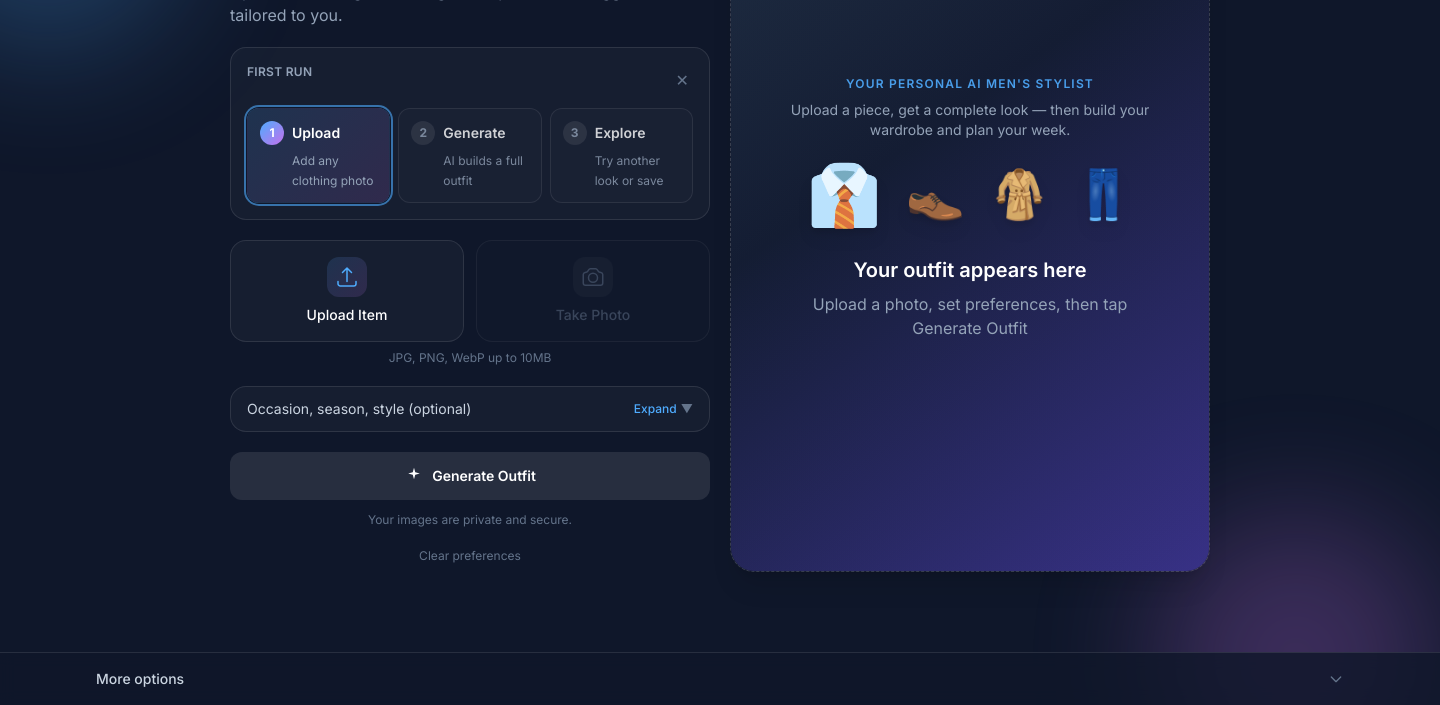
Test case: Guide and footer navigation (App) › opens User guide from footer link
The width and height of the screenshot is (1440, 705).
(page scrolled)
Click the button "More options".
click(140, 678)  # box [96, 653, 1344, 704]
(page scrolled)
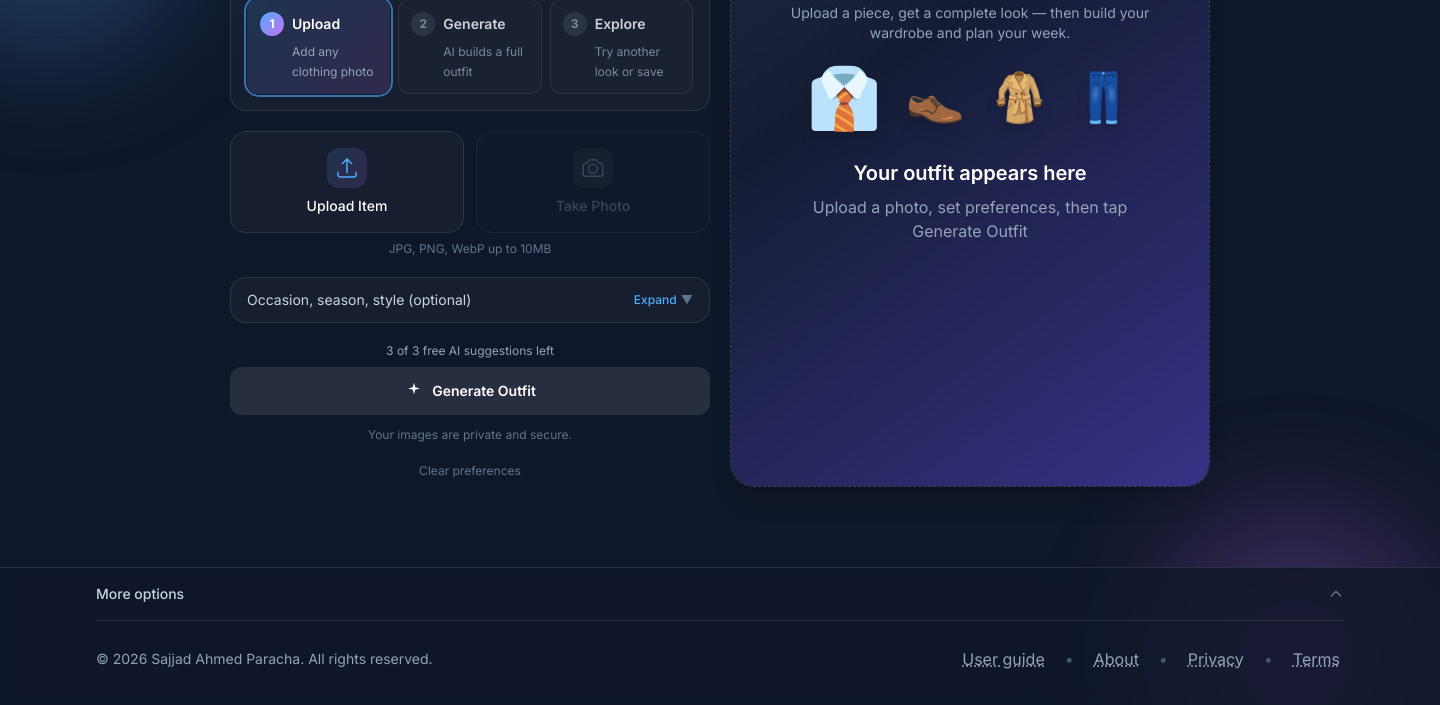
Result: the button with aria-label "Open user guide" is shown
Click the button with aria-label "Open user guide".
click(1004, 659)  # box [958, 637, 1049, 681]
(page scrolled)
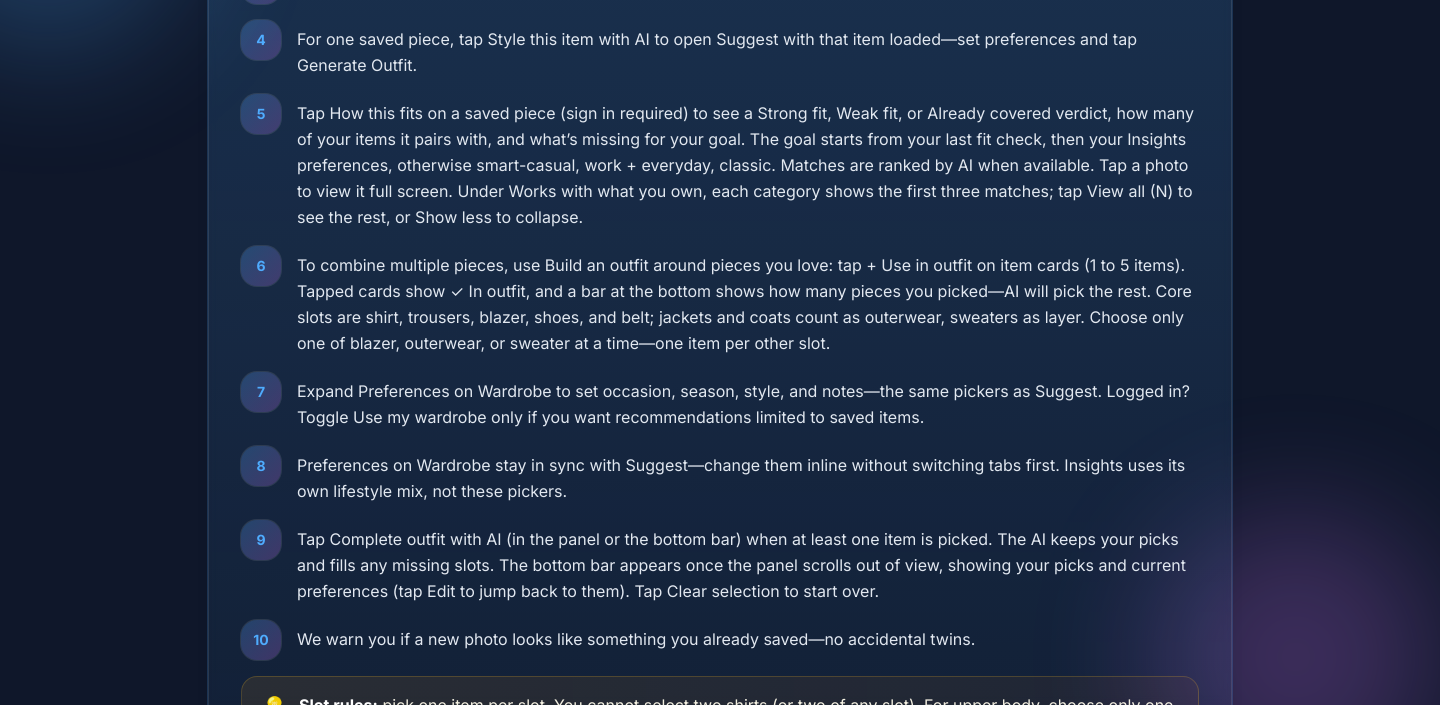
Result: the text "Build an outfit around pieces you love: tap + Use in outfit" is shown at [297, 255, 1192, 353]
